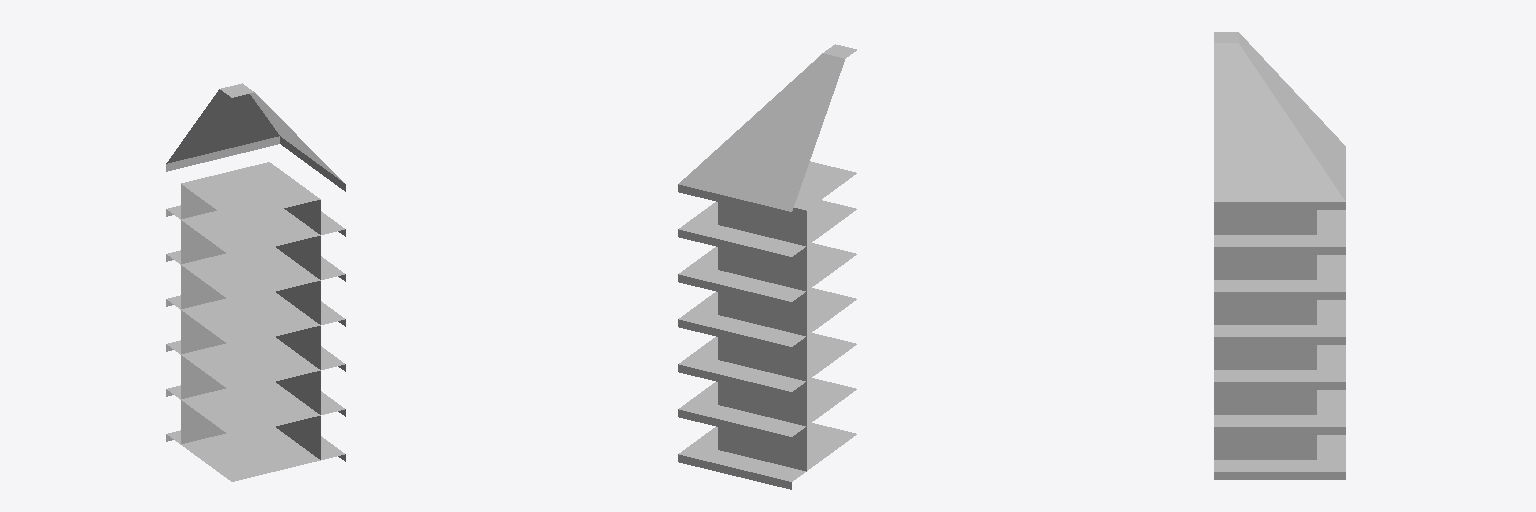
File: JC_ModPanels_CornerPiece.obj
3 renders of one model, left to right at view 1: azimuth 30°, elevation 25°; view 2: azimuth 150°, elevation 25°; view 3: azimuth 270°, elevation 25°, orthographic.
Visible parts, largest first — view 1: polySurface174; view 2: polySurface174; view 3: polySurface174.
Part boxes in pixels (left/top/right/bottom): polySurface174: left=166, top=83, right=345, bottom=481; polySurface174: left=678, top=44, right=856, bottom=489; polySurface174: left=1214, top=32, right=1345, bottom=479.
Bounding box in the file's own units: 64.06 × 210 × 64.06.